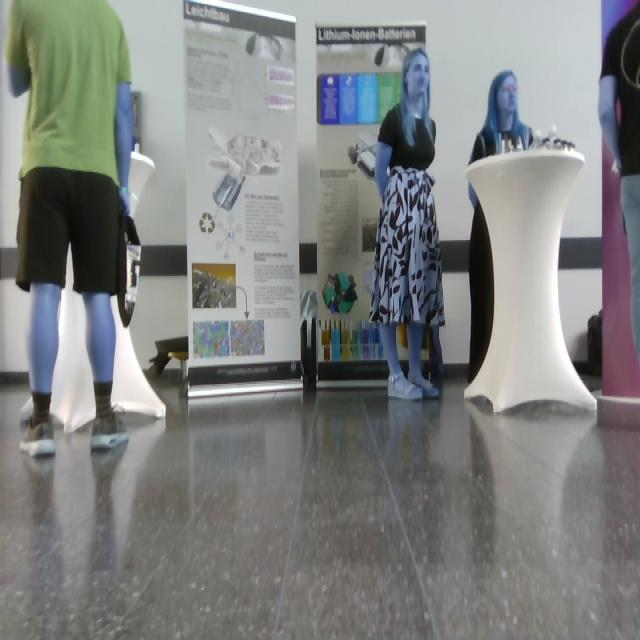door: (184, 1, 304, 398)
light bulb: (117, 146, 156, 328), (208, 125, 282, 212), (126, 145, 156, 220), (348, 132, 379, 168), (246, 32, 283, 62), (374, 44, 409, 69)
person: (5, 1, 135, 458), (369, 48, 446, 401), (598, 2, 640, 373)
pillar: (464, 147, 598, 415)
tiled floor: (1, 365, 639, 640)
